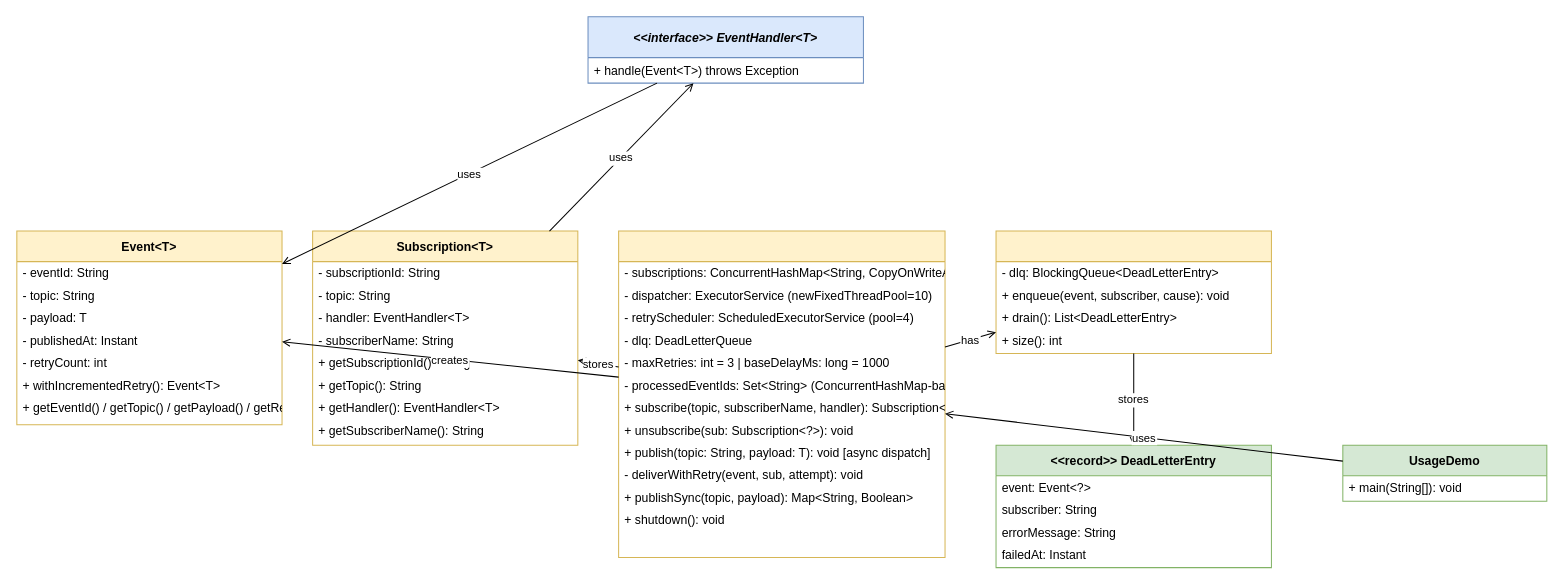
Some shapes in this 1564 by 584 pixel diagram are drawn without their labels. The box of each missing label's shape, as (x1, y1, x2, y2) in pixels:
DeadLetterQueue: (995, 230, 1271, 353)
EventBus: (618, 230, 945, 557)
